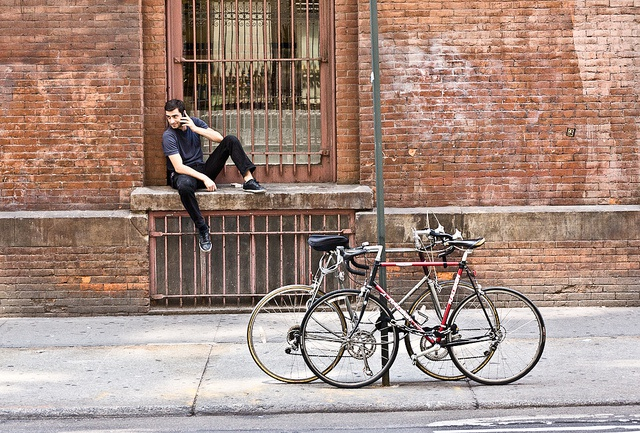non-vehicle: (298, 237, 548, 389), (246, 224, 460, 382)
